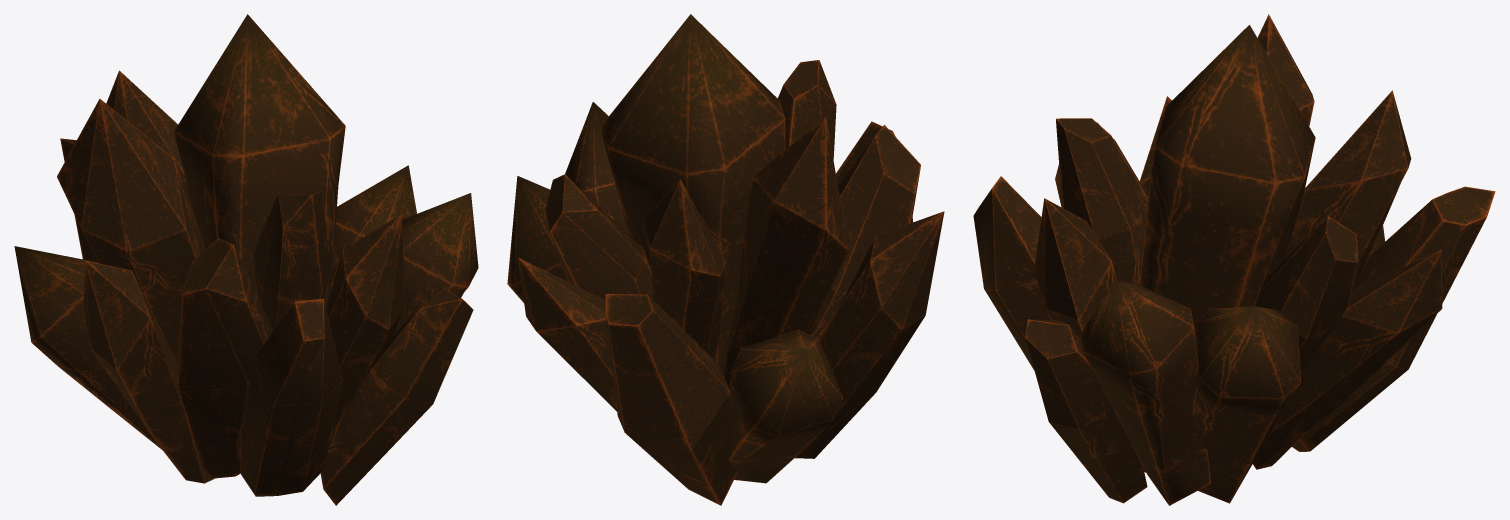
The model's file is crystal_bush_1.fbx.
The picture shows the model from 3 angles, left to right: view 1: azimuth 30°, elevation 25°; view 2: azimuth 150°, elevation 25°; view 3: azimuth 270°, elevation 25°; orthographic projection. The views are drawn at different scales.
Parts seen in each view (by area): view 1: crystal_bush_1; view 2: crystal_bush_1; view 3: crystal_bush_1.
Part boxes in pixels (box(x1,y1,x2,y2)): crystal_bush_1: box(14, 14, 478, 505); crystal_bush_1: box(507, 14, 944, 505); crystal_bush_1: box(973, 14, 1495, 505).
Size of the model in its own units: 3.22 by 3.67 by 3.75.
